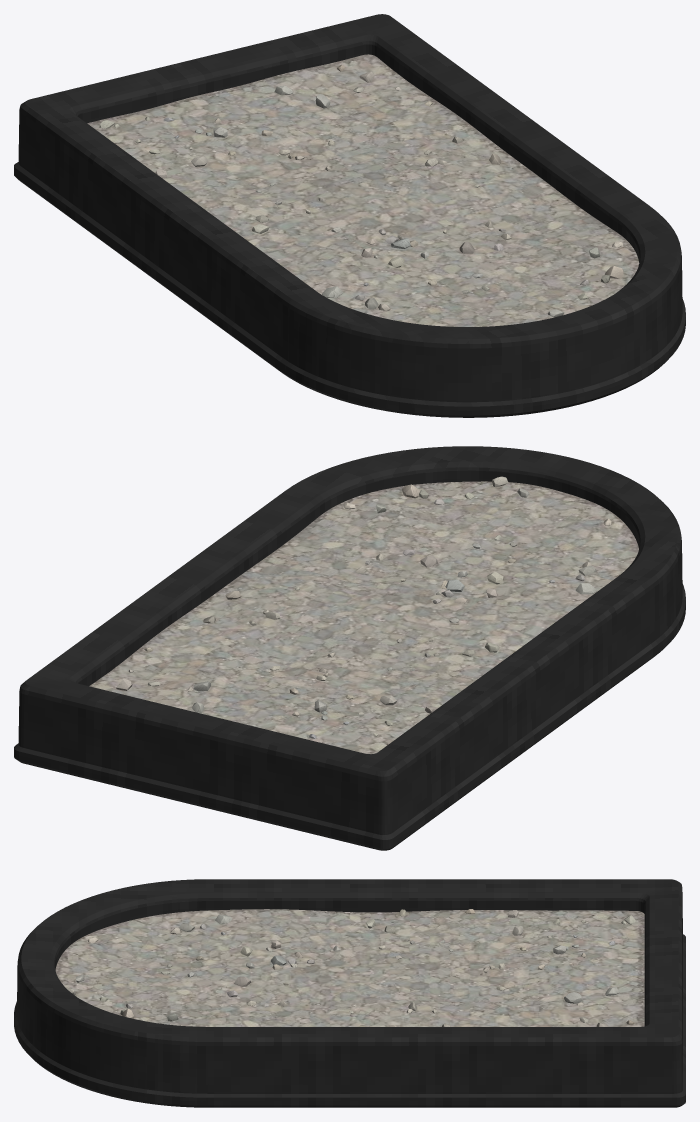
The model's file is flower-round-marble-far.glb.
3 views of the same model, one above another, from view 1: azimuth 30°, elevation 25°; view 2: azimuth 150°, elevation 25°; view 3: azimuth 270°, elevation 25° (orthographic). The views are drawn at different scales.
Parts seen in each view (by area): view 1: SM_flower_round_marble; view 2: SM_flower_round_marble; view 3: SM_flower_round_marble.
Part boxes in pixels (x1=…): SM_flower_round_marble: x1=14, y1=14, x2=685, y2=417; SM_flower_round_marble: x1=14, y1=446, x2=685, y2=850; SM_flower_round_marble: x1=14, y1=879, x2=685, y2=1107.
Size of the model in its own units: 0.66 by 0.128 by 1.14.
Materials: 4 (4 with a texture image).
